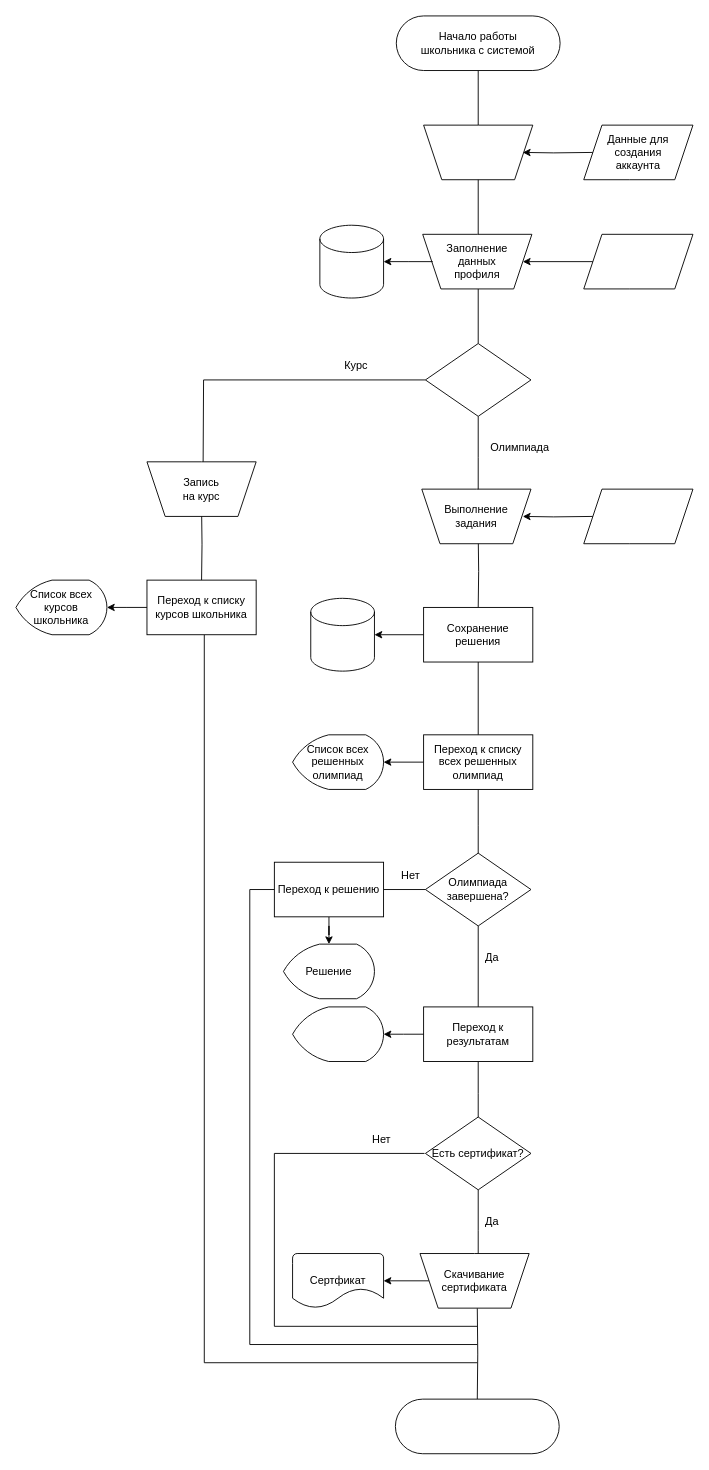
Image size: 709x1470. Some labels were removed from this diagram. The shapes that lost their labels are listed below. From the top down, each one's centre as x and y in pixels, then its label:
At pixel 478 152: "Регистрация в системе".
At pixel 351 261: "Личная информация".
At pixel 638 261: "Информация о школьнике и его интересах".
At pixel 478 379: "Курс или олимпиада?".
At pixel 638 516: "Решение школьника".
At pixel 342 634: "Ответы на задание".
At pixel 338 1034: "Результаты олимпиады".
At pixel 476 1426: "Конец работы школьника с системой".
